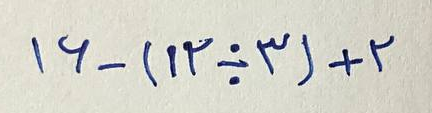character: (219, 41, 250, 86), (257, 34, 288, 76), (58, 35, 90, 74), (368, 36, 396, 71), (184, 39, 210, 75), (297, 35, 314, 87), (329, 50, 363, 76), (141, 39, 159, 88), (31, 37, 45, 74), (167, 46, 177, 78), (100, 62, 127, 72)
